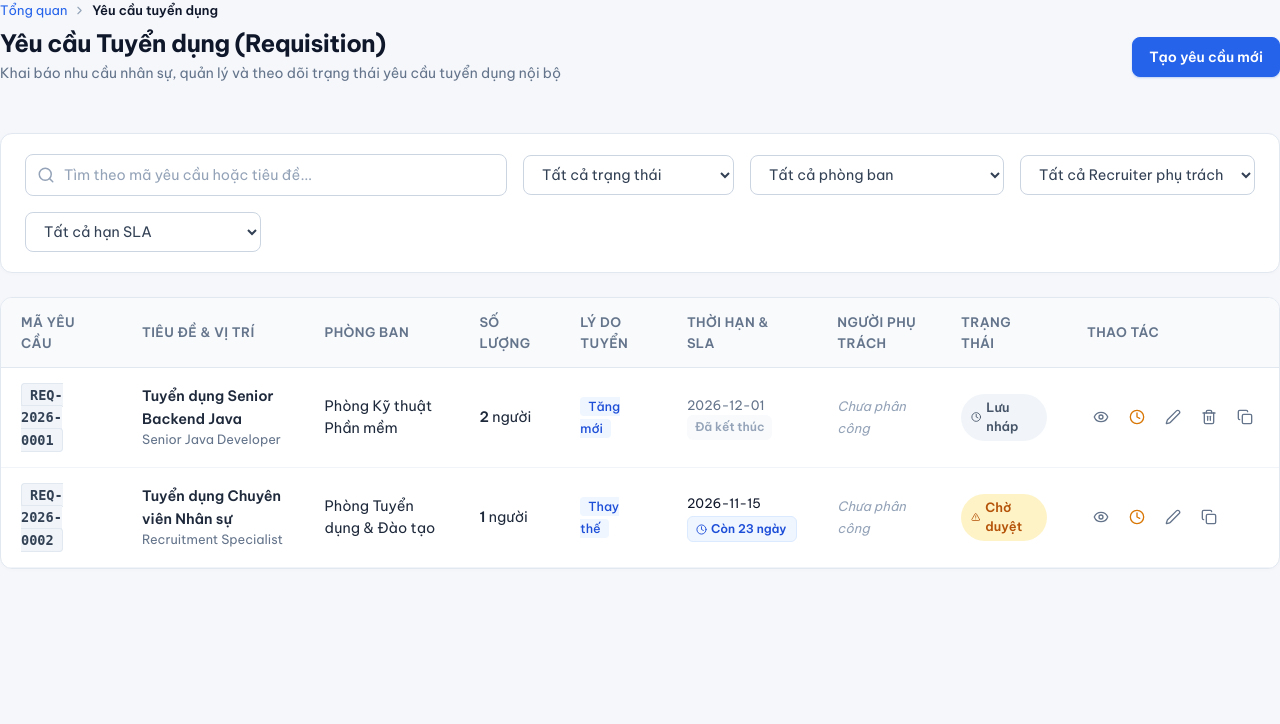
it: RequisitionManagementPage (S2-10 - Yêu cầu Tuyển dụng) › shows headcount quota info and warning badge when quantity exceeds quota (S3-04)
The image size is (1280, 724).
Expected: the text "REQ-2026-0001" is shown, [21,383,63,452]
Click the button "Tạo yêu cầu mới": point(1206, 57) [1132,37,1279,77]
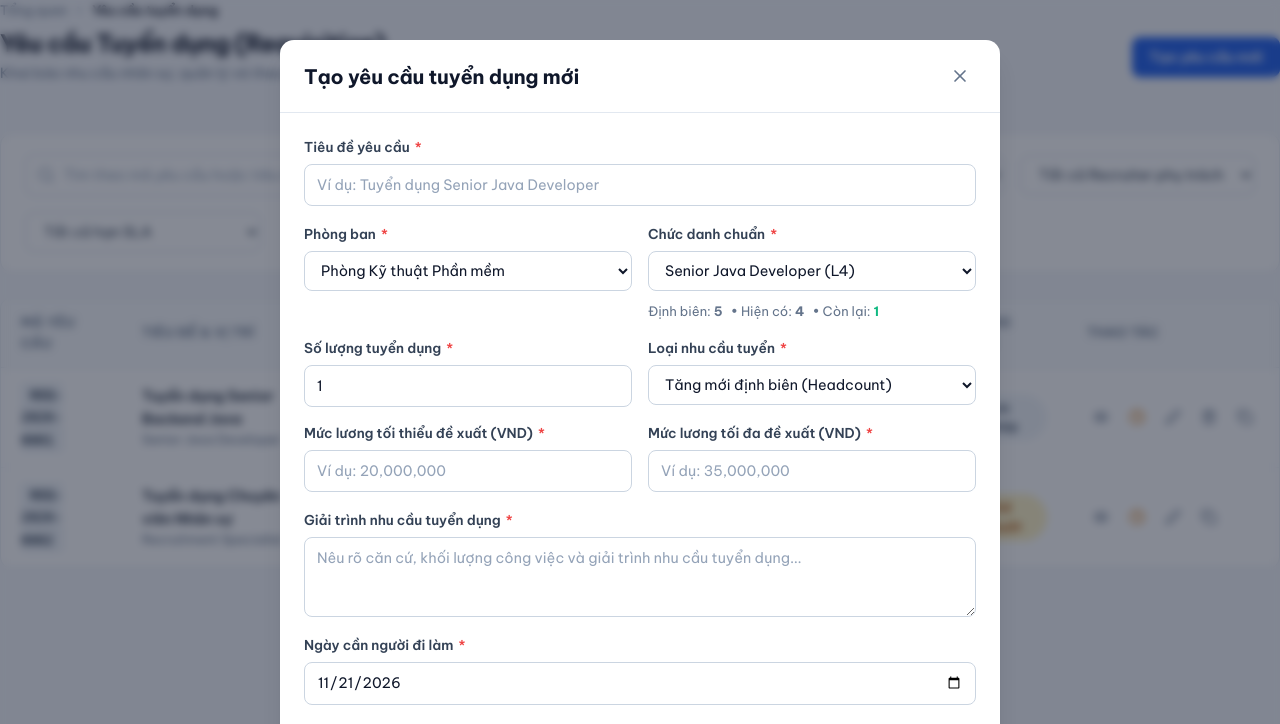
Replace the text in the number field showing "1" with "3": point(468, 386) [304,365,632,407]
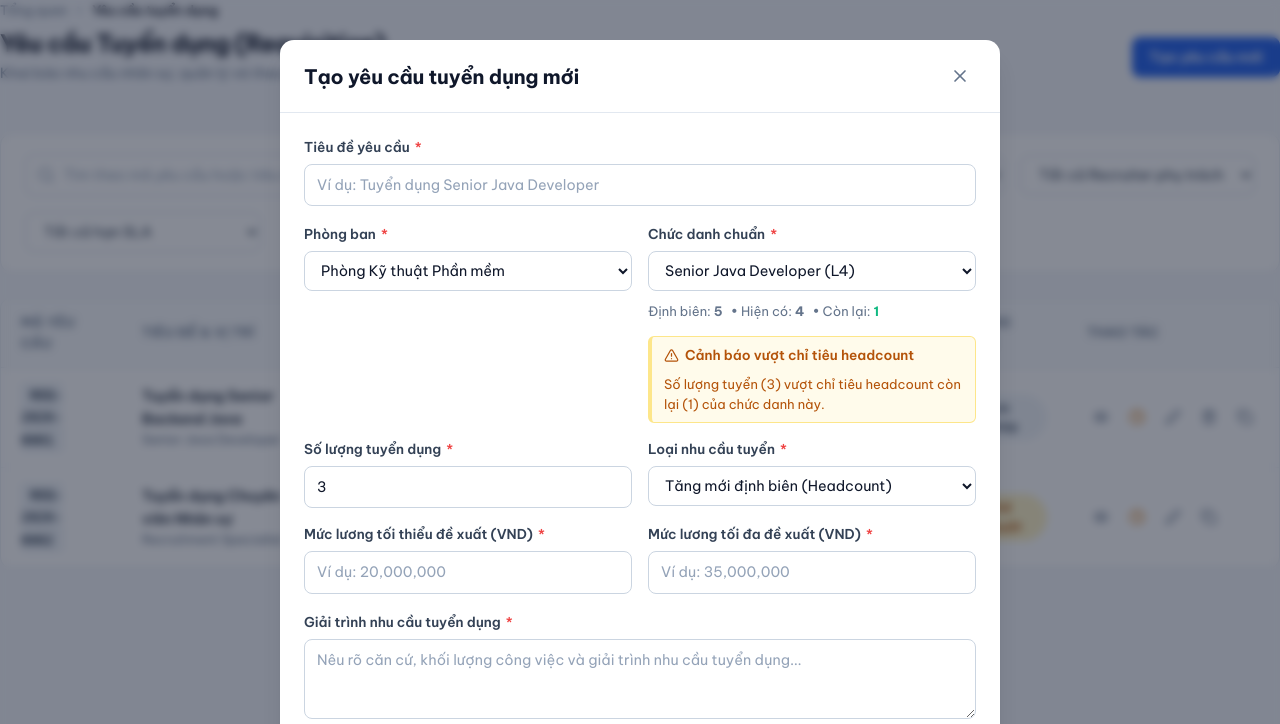
Result: the text "Cảnh báo vượt chỉ tiêu headcount" is shown at [685,345,914,366]
Result: the text "vượt chỉ tiêu headcount còn lại" is shown at [664,376,961,412]
